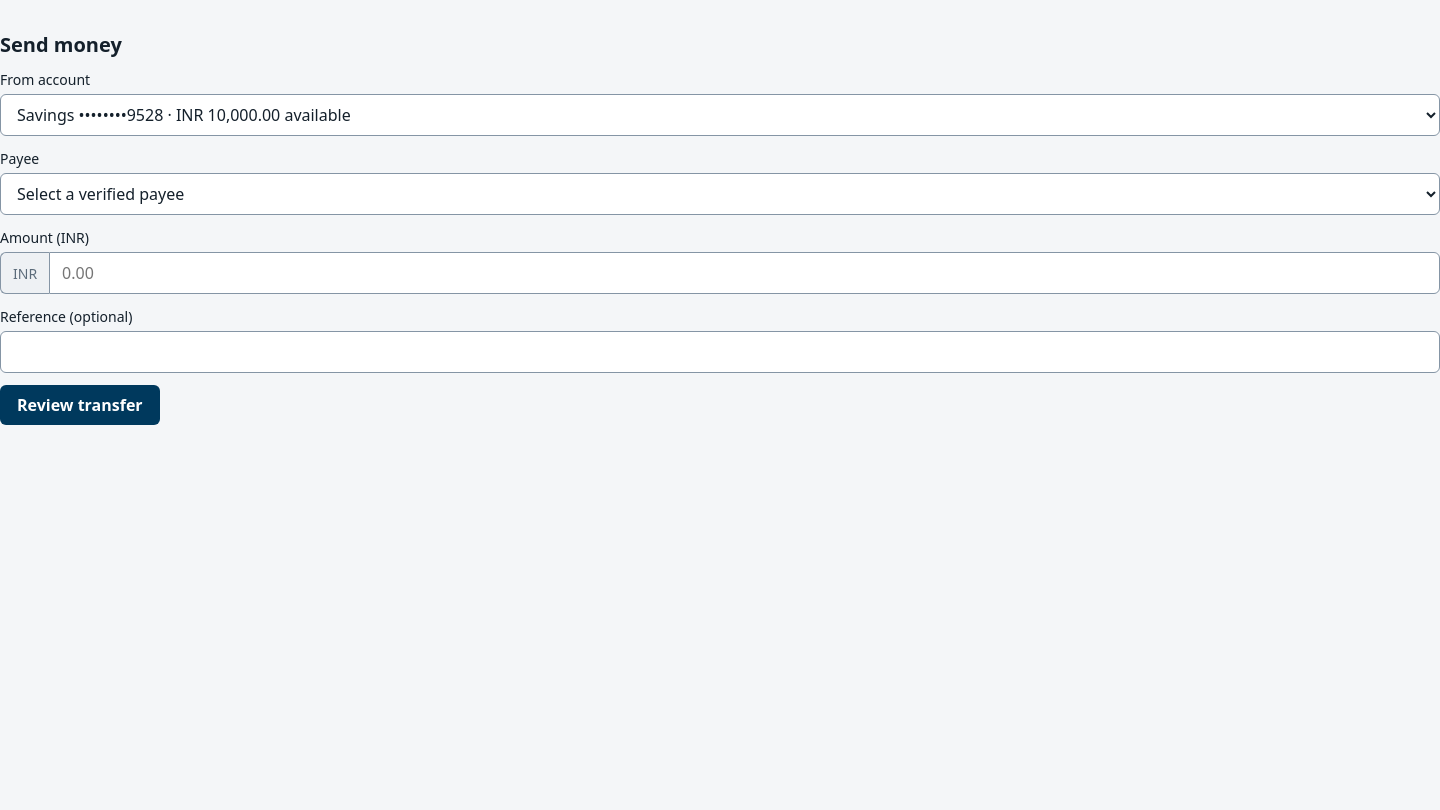
SendMoney › shows a declined transfer without any reason or score
This screenshot has width=1440, height=810.
Select "Savings ••••••••9528 · INR 10,000.00 available" in the dropdown labelled "From account" at (720, 115), box [0,94,1439,136]
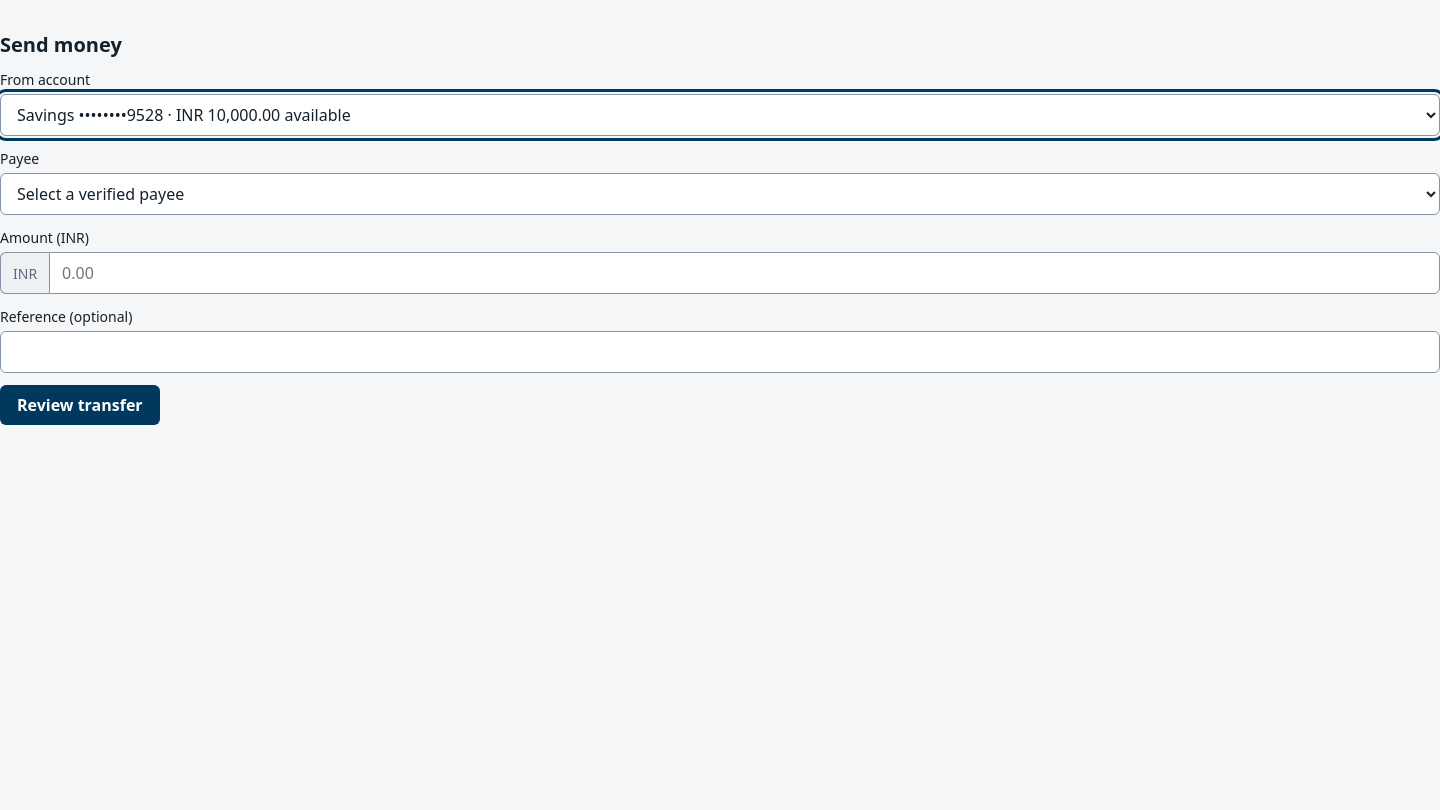
Select "Bob Demo (••••••••2621)" in the dropdown labelled "Payee" at (720, 194), box [0,173,1439,215]
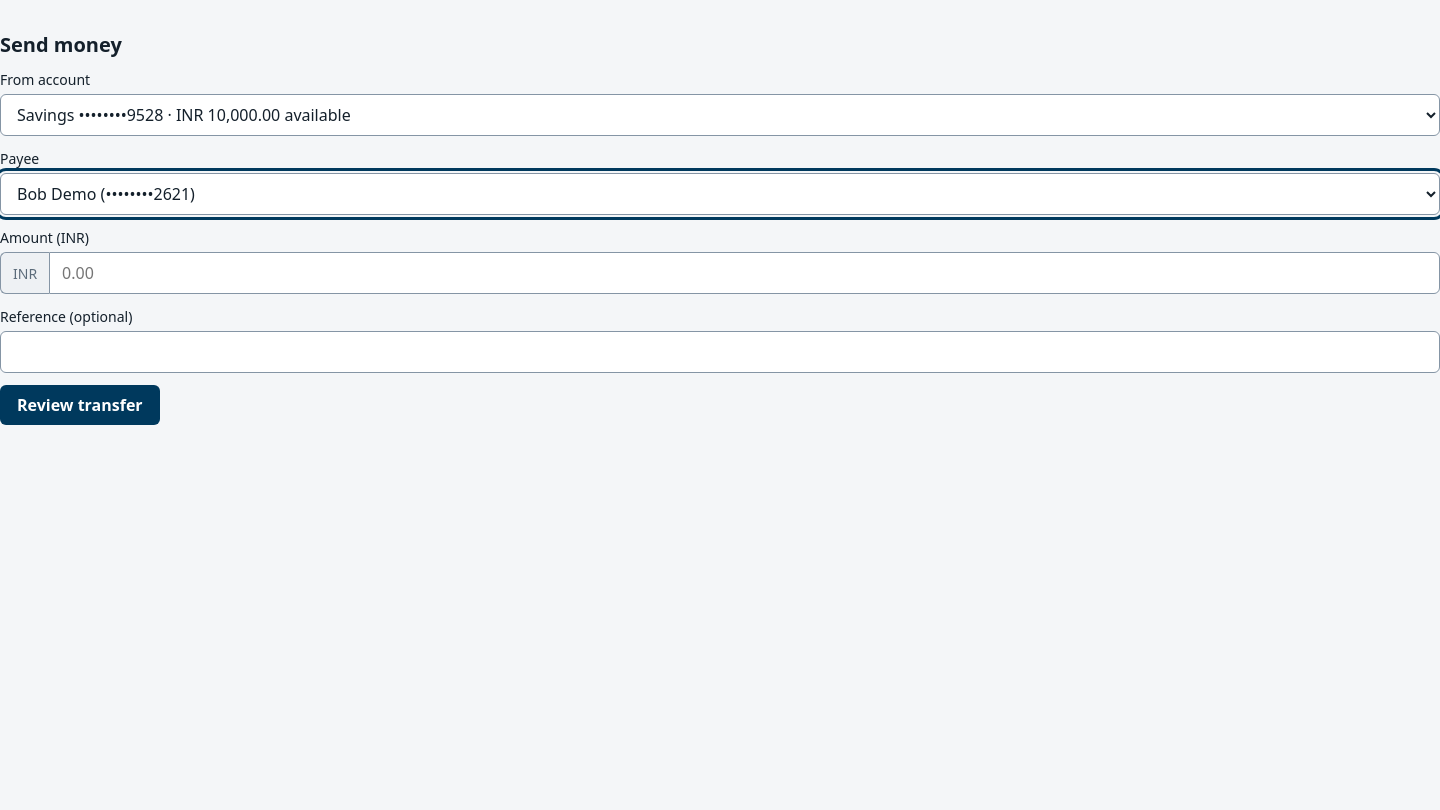
Type "300" into the field labelled "Amount (INR)".
click(745, 273); type("300")  # box [49,252,1439,294]
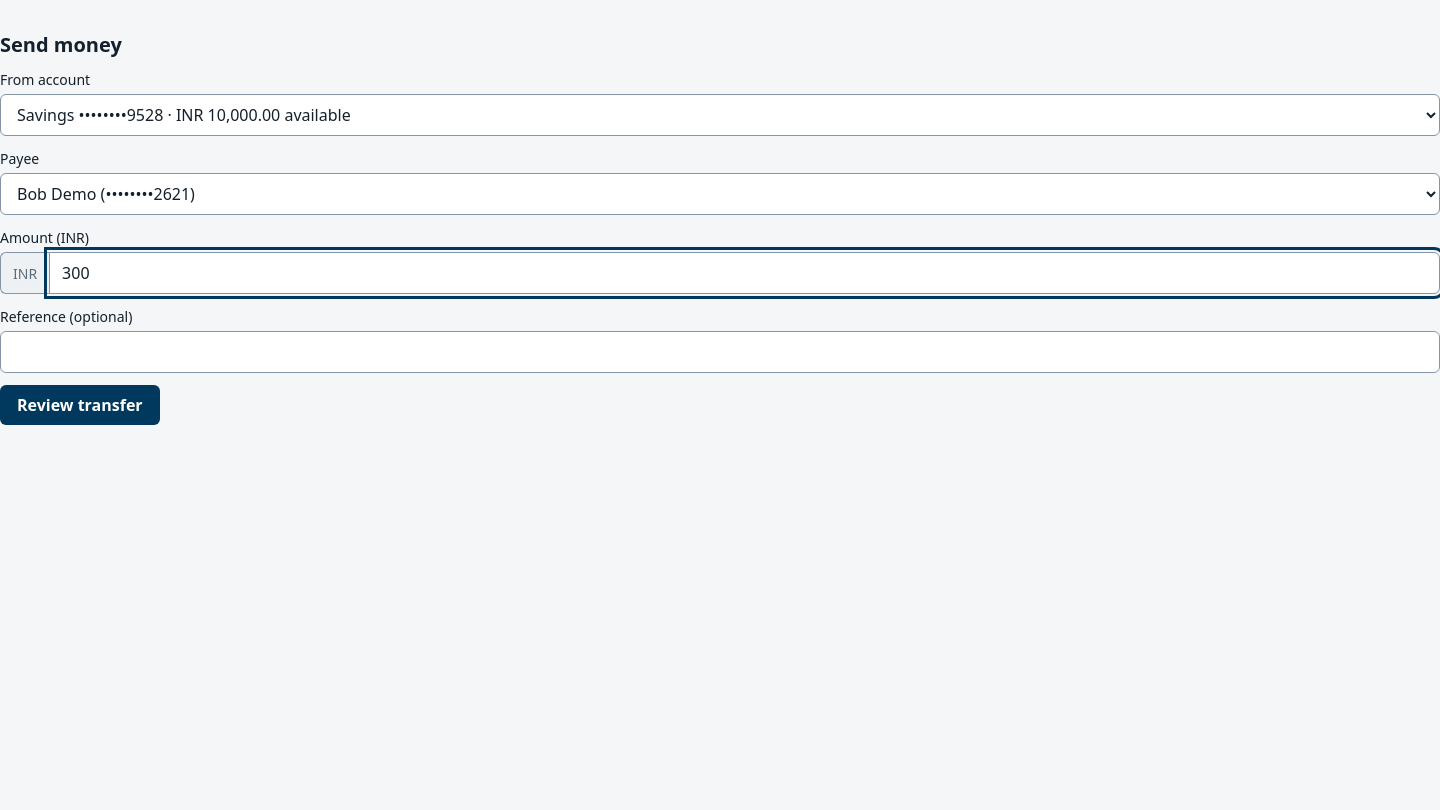
Type "rent" into the field labelled "Reference (optional)".
click(720, 352); type("rent")  # box [0,331,1439,373]
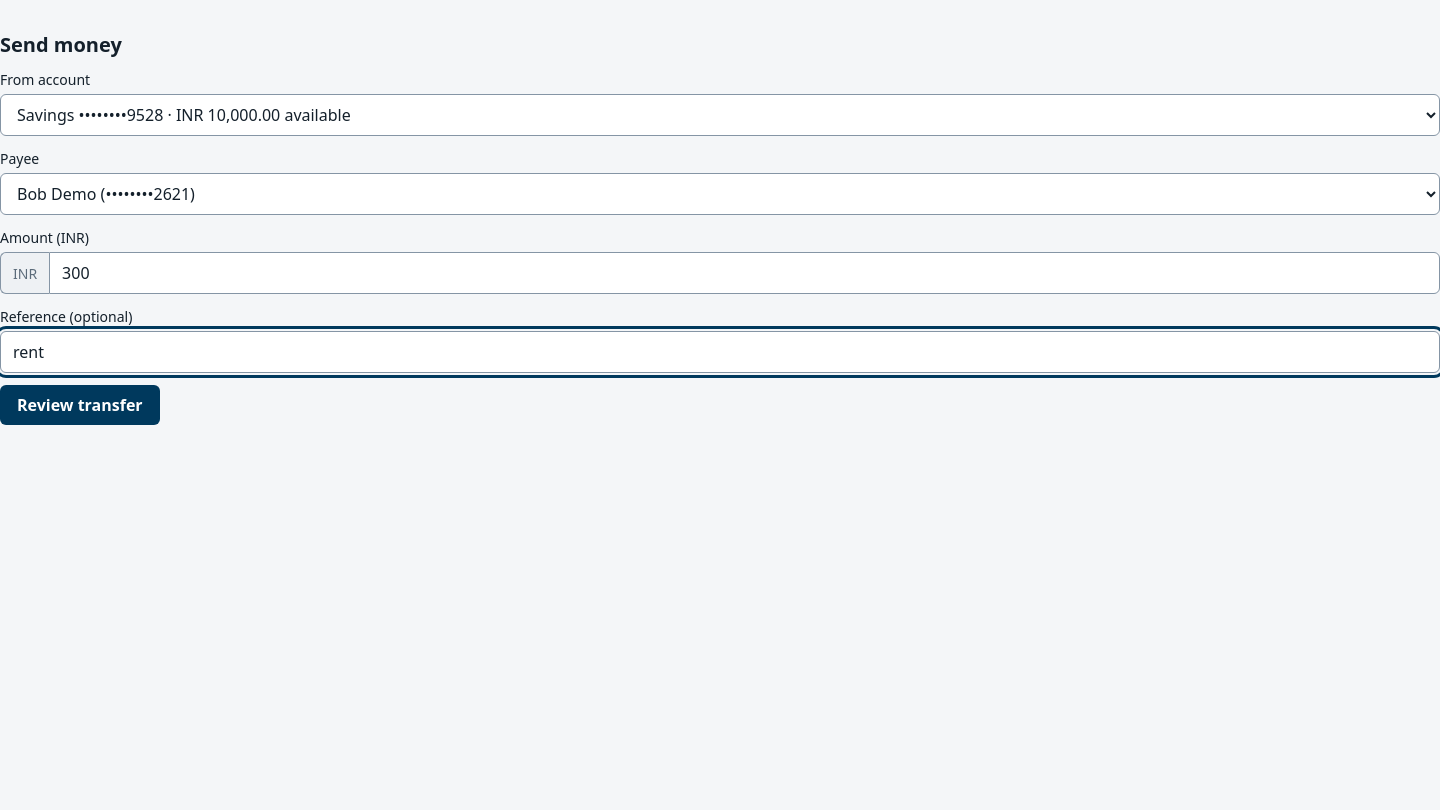
Click the button "Review transfer".
click(80, 405)  # box [0,385,160,425]
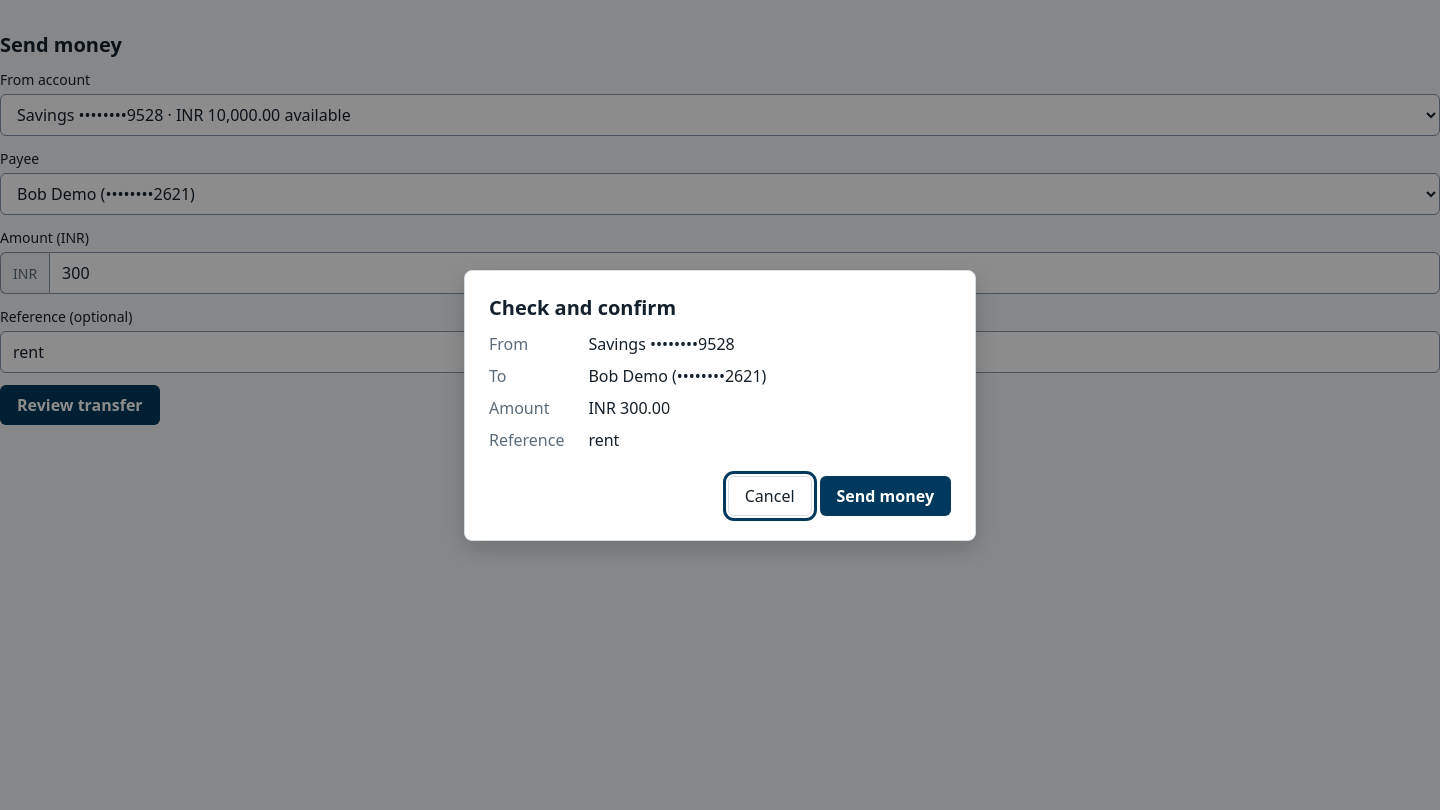
Result: the text "Bob Demo (••••••••2621)" is shown at [588,364,766,386]
Click the button "Send money".
click(885, 496)  # box [820,476,951,516]
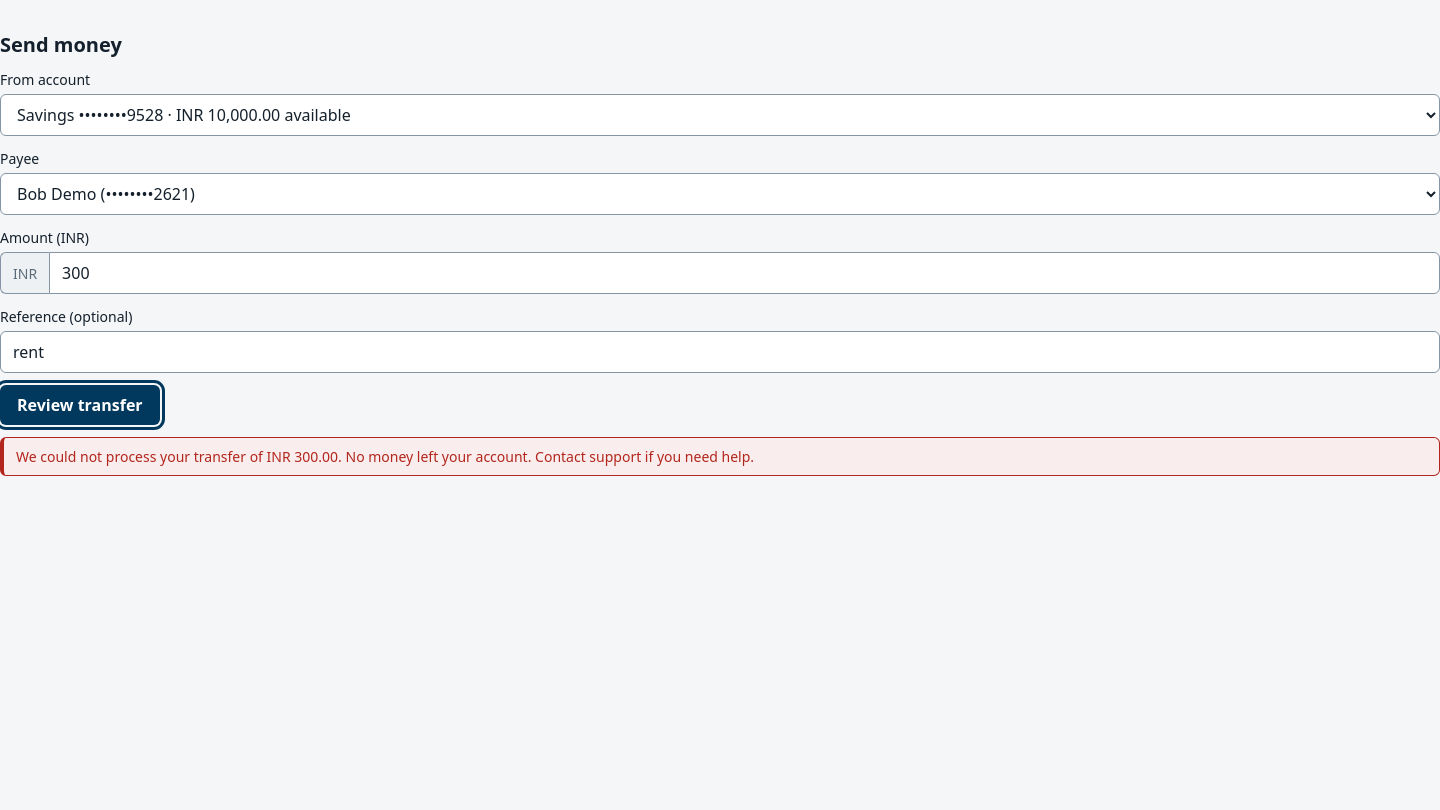
Result: the message shows "No money left your account" at [338,447,754,466]
